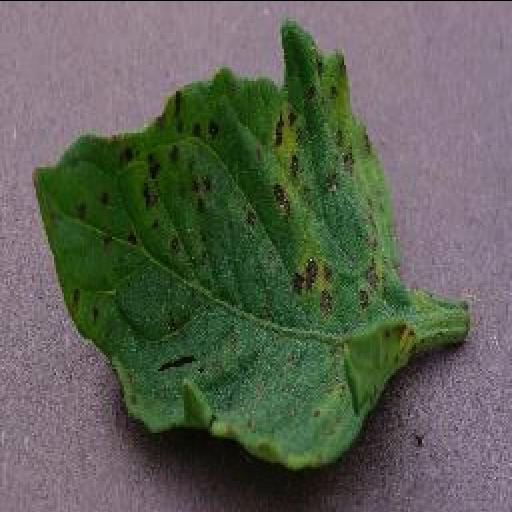disease_tomato: (31, 17, 417, 466)
